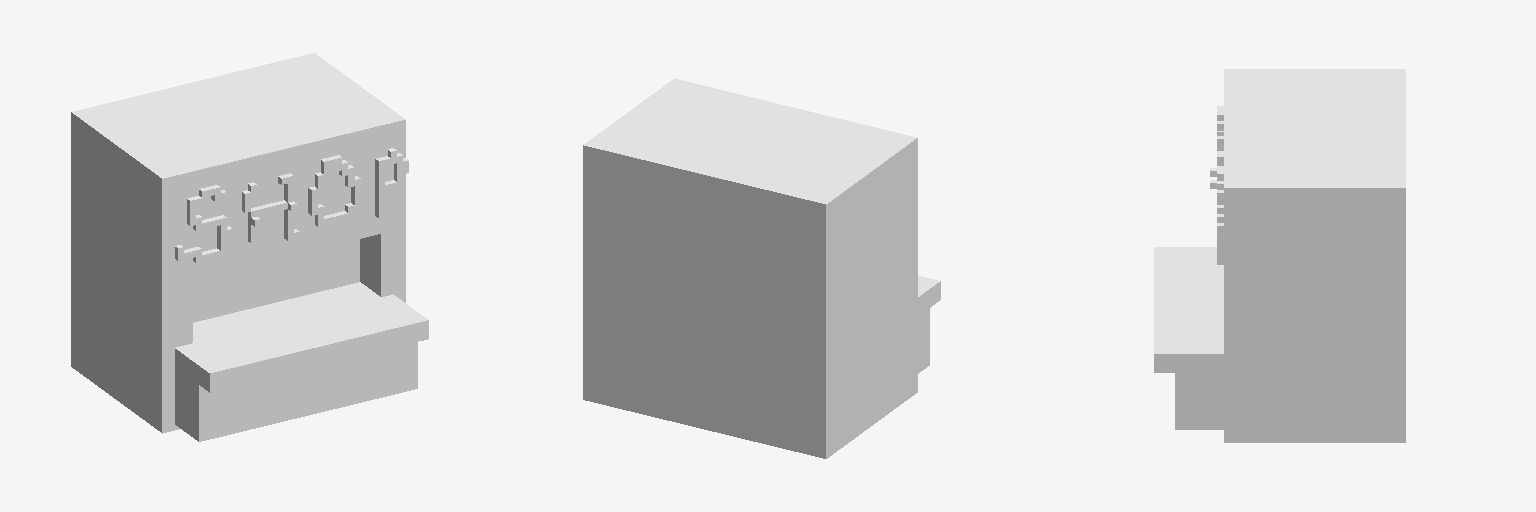
Rendered from shop.obj.
3 views of the same model, side by side, from view 1: azimuth 30°, elevation 25°; view 2: azimuth 150°, elevation 25°; view 3: azimuth 270°, elevation 25° (orthographic).
Visible parts, largest first — view 1: object 1; view 2: object 1; view 3: object 1.
Boxes of the visible parts, <box> form: object 1: <box>71,53,428,441</box>; object 1: <box>583,78,940,458</box>; object 1: <box>1154,69,1405,442</box>.
Bounding box in the file's own units: 4 × 4 × 3.6.